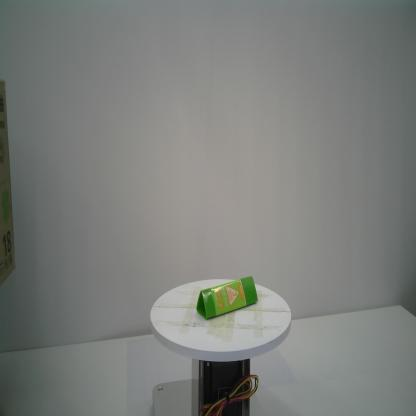Stationery: (194, 273, 261, 323)
